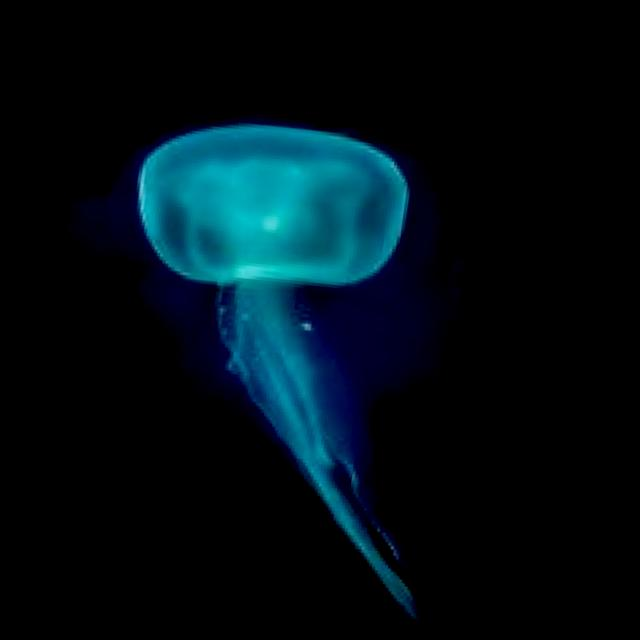Box-jellyfish: (70, 93, 526, 637)
